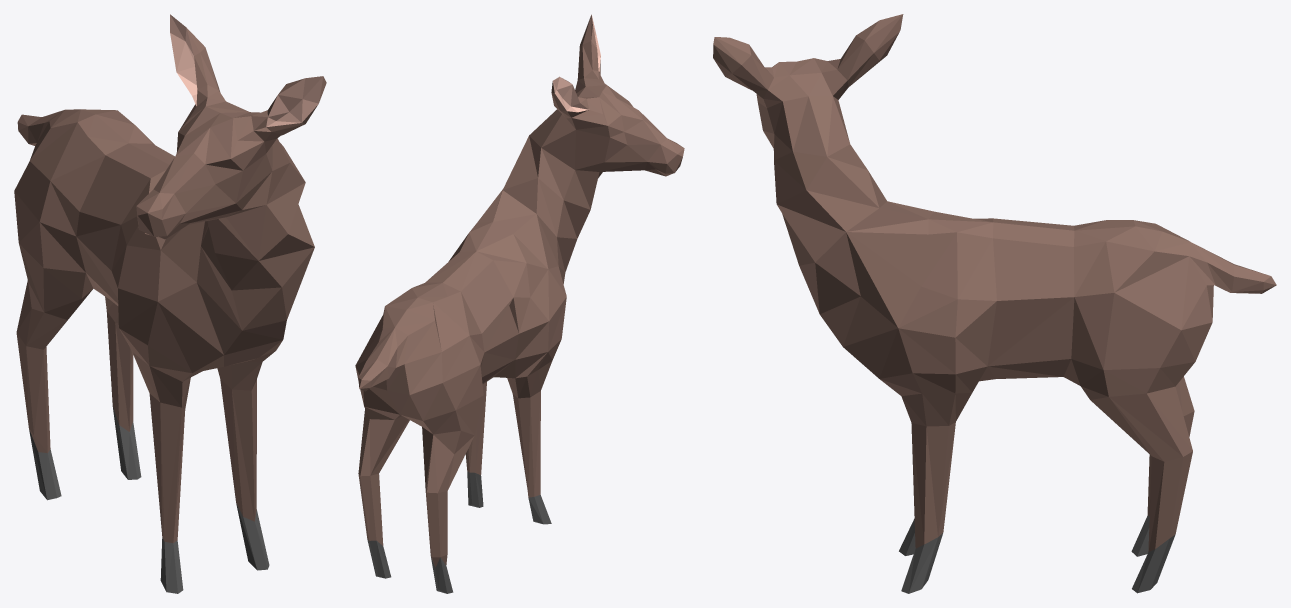
File: animal_010.glb
The picture shows the model from 3 angles, left to right: view 1: azimuth 30°, elevation 25°; view 2: azimuth 150°, elevation 25°; view 3: azimuth 270°, elevation 25°; orthographic projection. The views are drawn at different scales.
Parts seen in each view (by area): view 1: animal_010; view 2: animal_010; view 3: animal_010.
Boxes of the visible parts, <box> form: animal_010: <box>14,14,326,593</box>; animal_010: <box>355,14,684,593</box>; animal_010: <box>713,14,1276,593</box>.
Bounding box in the file's own units: 1.02 × 2.49 × 2.38.
1 material, 1 textured.
